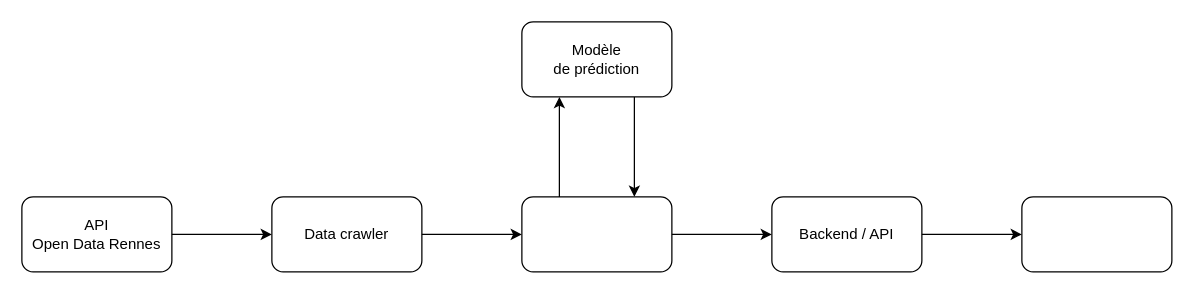
The diagram is 1194 pixels wide and 294 high, and some of its shapes have lost their labels. The box of each missing label's shape, as (x1, y1, x2, y2) in pixels:
Application / Site web: (1021, 196, 1172, 272)
Base de données: (521, 196, 672, 272)
